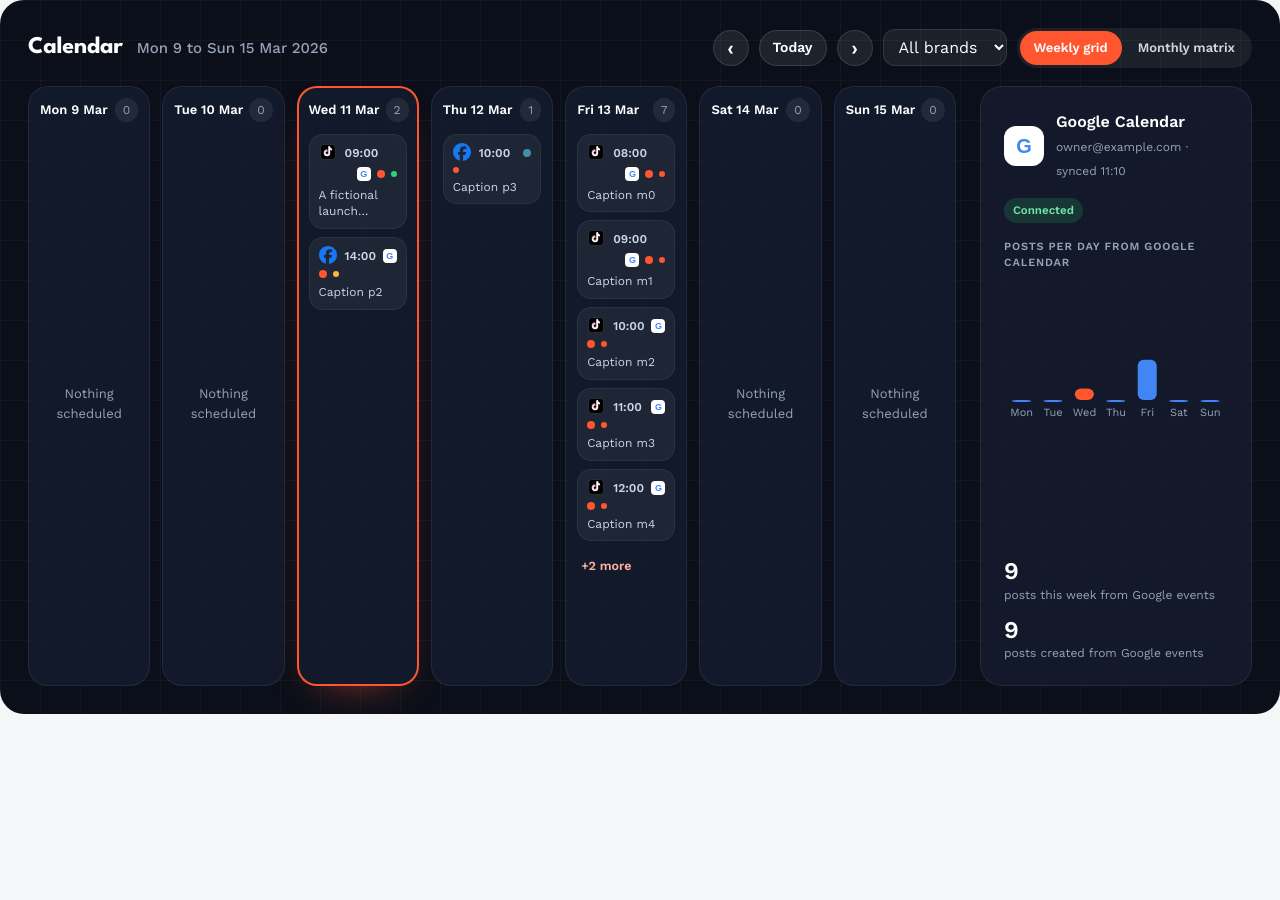
it: drawer › shows the raw click history for a post that carries a tracked link, and says so when it does not
Step 1. Click the button with test id "cw-card-p1" → (358, 181), box [309,134,407,229]
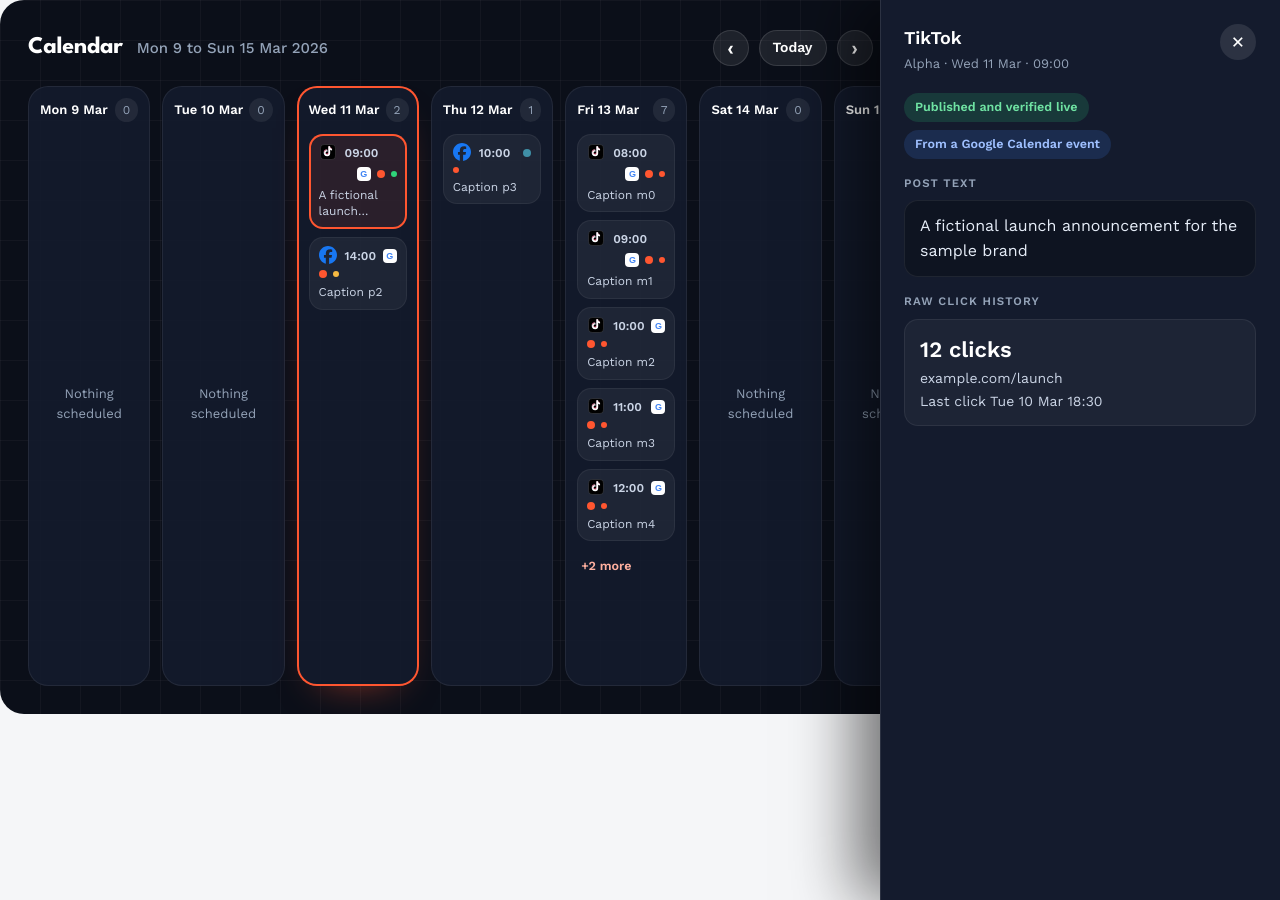
Now the text "12 clicks" is shown, box [920,337,1012,362]
Now the text "example.com/launch" is shown, box [920,370,1063,386]
Step 2. Click the button named "close" → (1238, 42), box [1220,24,1256,60]
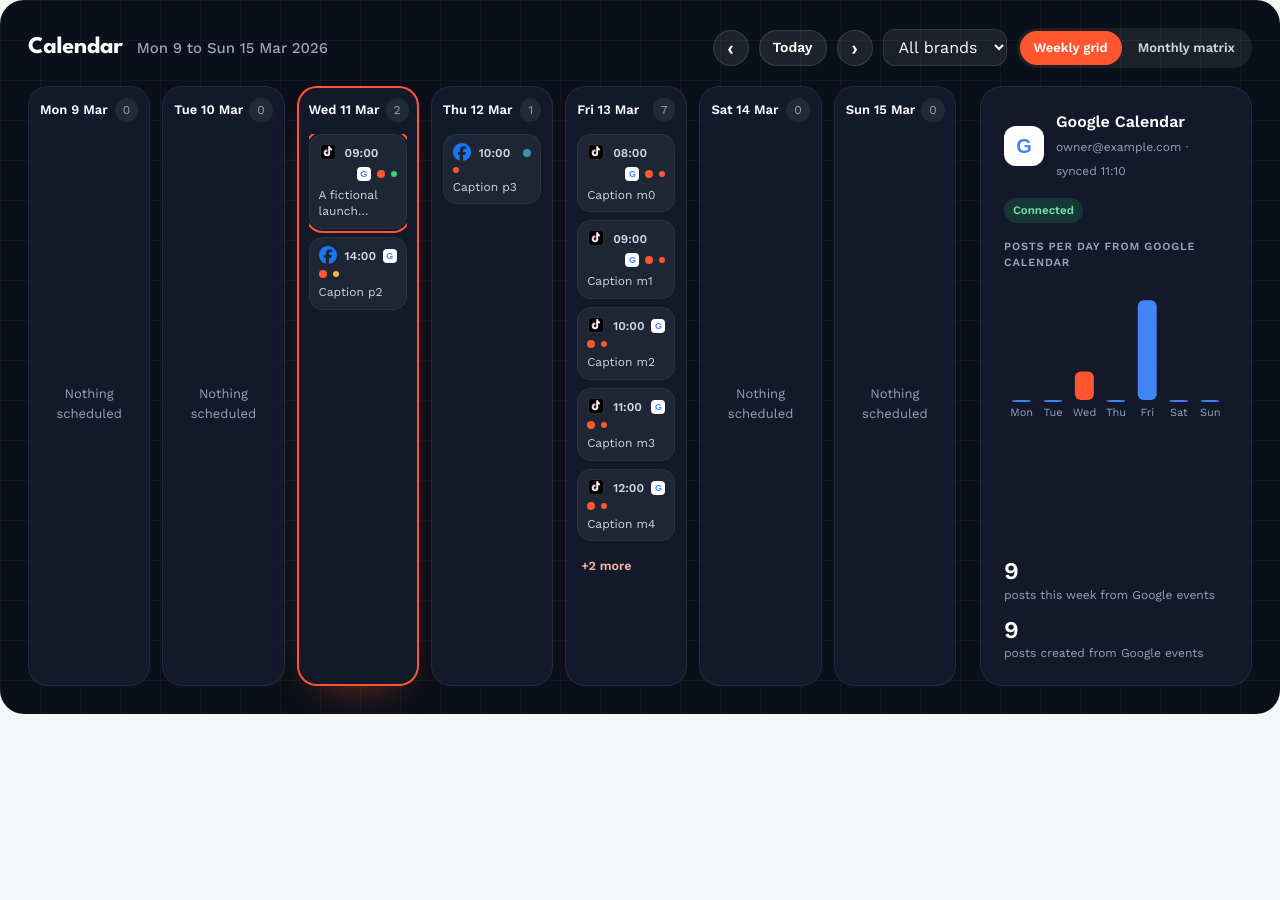
Step 3. Click the button with test id "cw-card-p2" → (358, 274), box [309,237,407,310]
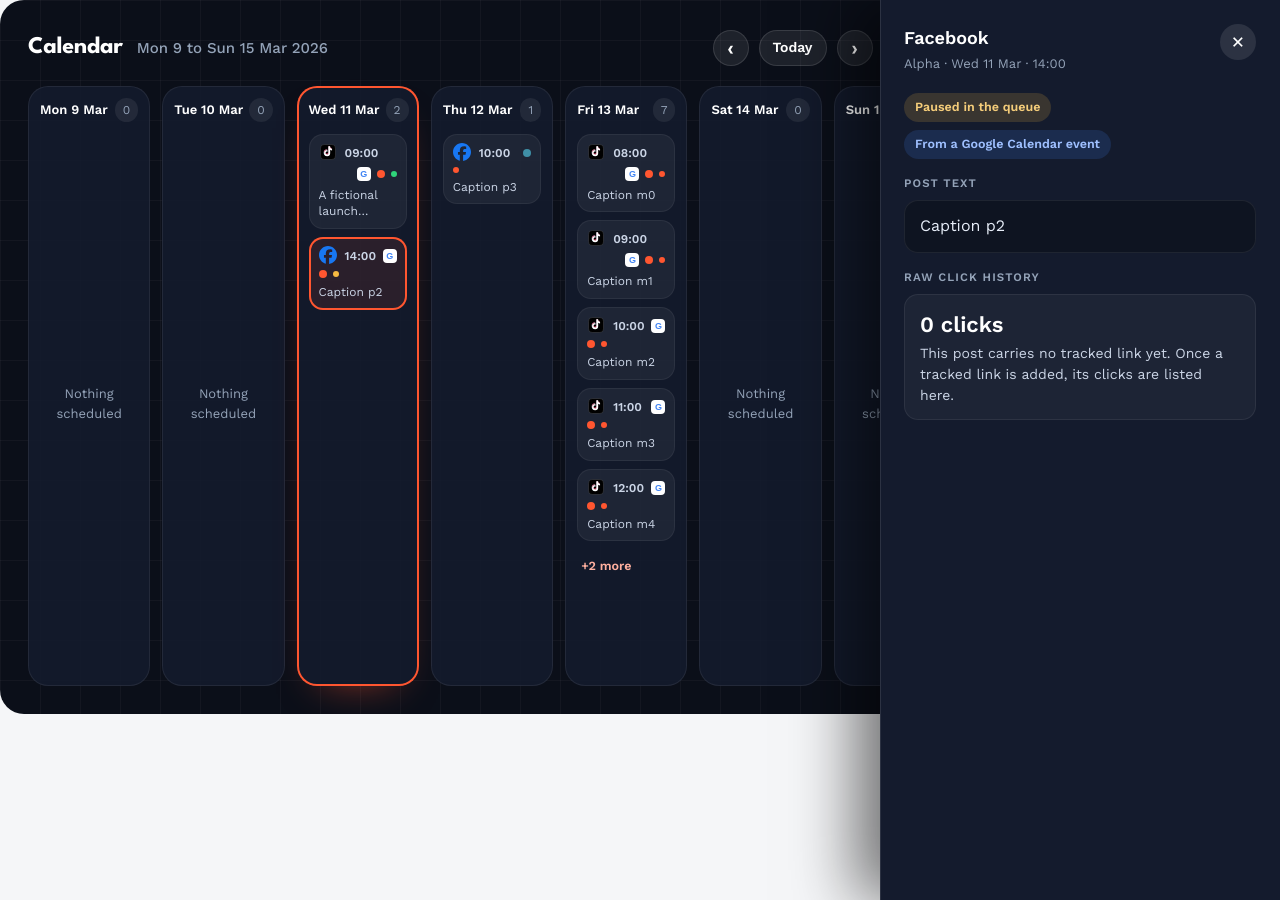
Now the text "no tracked link" is shown, box [920,345,1223,403]
